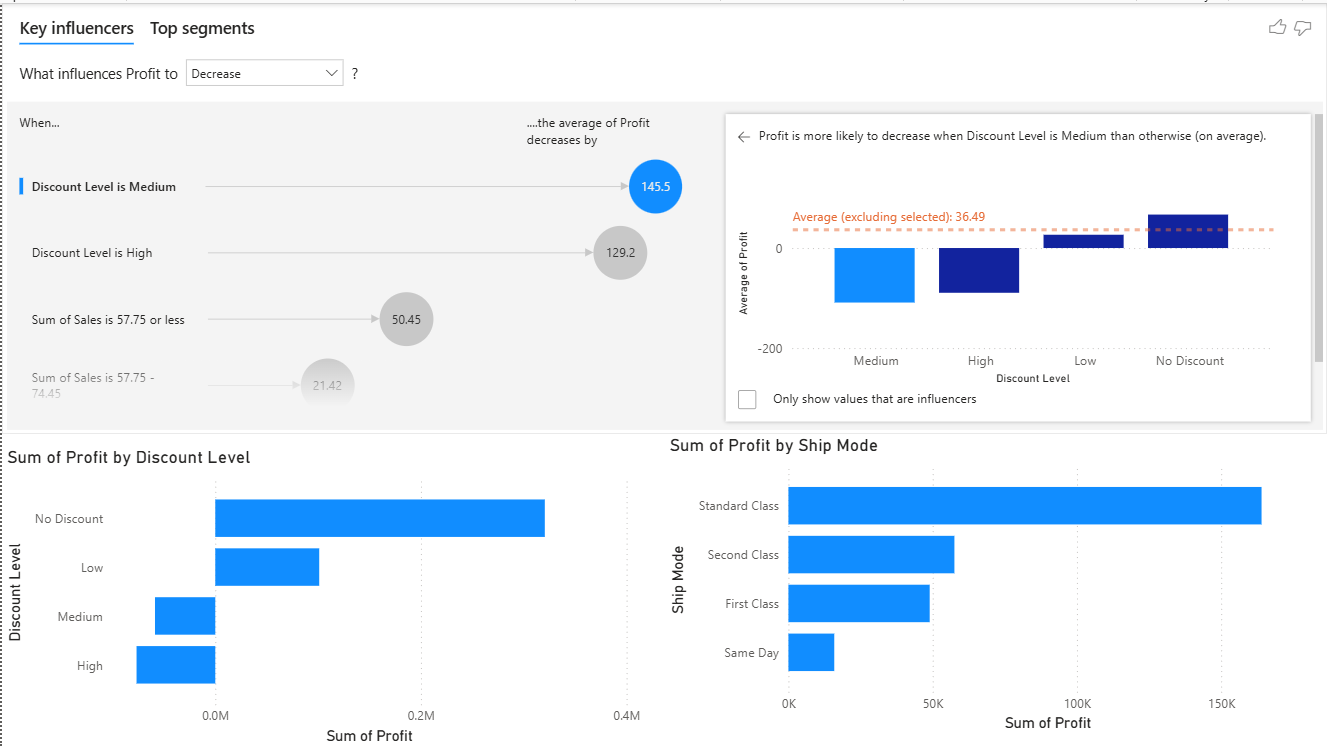

The page's visual inventory and layout, read from the dashboard file:
{"tool":"powerbi","page":{"name":"Page 2","canvas":[1280,720],"ordinal":1},"visuals":[{"type":"keyDriversVisual","fields":{"Target":["Ready for Visualization.Profit"],"ExplainBy":["Ready for Visualization.Discount Level","Ready for Visualization.Category","Ready for Visualization.Segment","Ready for Visualization.Region","Ready for Visualization.Ship Mode","Sum(Ready for Visualization.Quantity)","Sum(Ready for Visualization.Sales)"]},"box":[0,0,1280,416.7],"z":0},{"type":"clusteredBarChart","fields":{"Category":["Ready for Visualization.Discount Level"],"Y":["Sum(Ready for Visualization.Profit)"]},"box":[0,428,622,292],"z":1000},{"type":"clusteredBarChart","fields":{"Category":["Ready for Visualization.Ship Mode"],"Y":["Sum(Ready for Visualization.Profit)"]},"box":[640,416,640,292],"z":2000}]}

Visuals, with their boxes in screenshot pixels (x1, y1, x2, y2), scaled from the page's 1280x720 canvas onto the 1327x747 screenshot:
keyDriversVisual - Ready for Visualization.Profit x Ready for Visualization.Discount Level: (x1=0, y1=0, x2=1326, y2=432)
clusteredBarChart - Ready for Visualization.Discount Level x Sum(Ready for Visualization.Profit): (x1=0, y1=444, x2=645, y2=746)
clusteredBarChart - Ready for Visualization.Ship Mode x Sum(Ready for Visualization.Profit): (x1=664, y1=432, x2=1326, y2=735)
